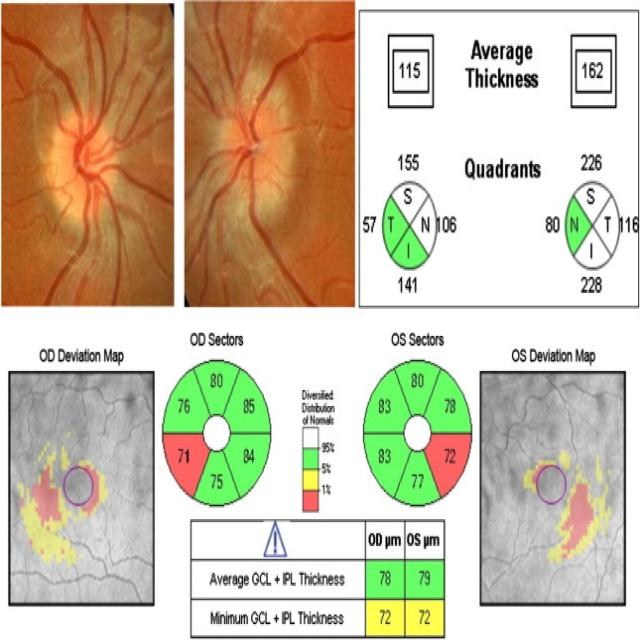average gcl and ipl thickness: (195, 564, 435, 600)
average gcl and ipl thickness-od: (373, 564, 399, 592)
average gcl and ipl thickness-os: (408, 564, 435, 594)
minimum gcl and ipl thickness: (195, 603, 435, 631)
minimum gcl and ipl thickness-od: (373, 604, 402, 634)
minimum gcl and ipl thickness-os: (414, 604, 434, 634)
